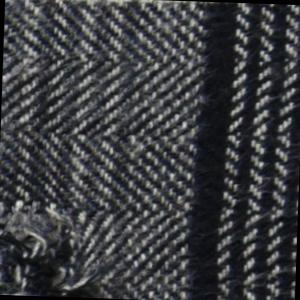Damage: (1, 195, 125, 300)
